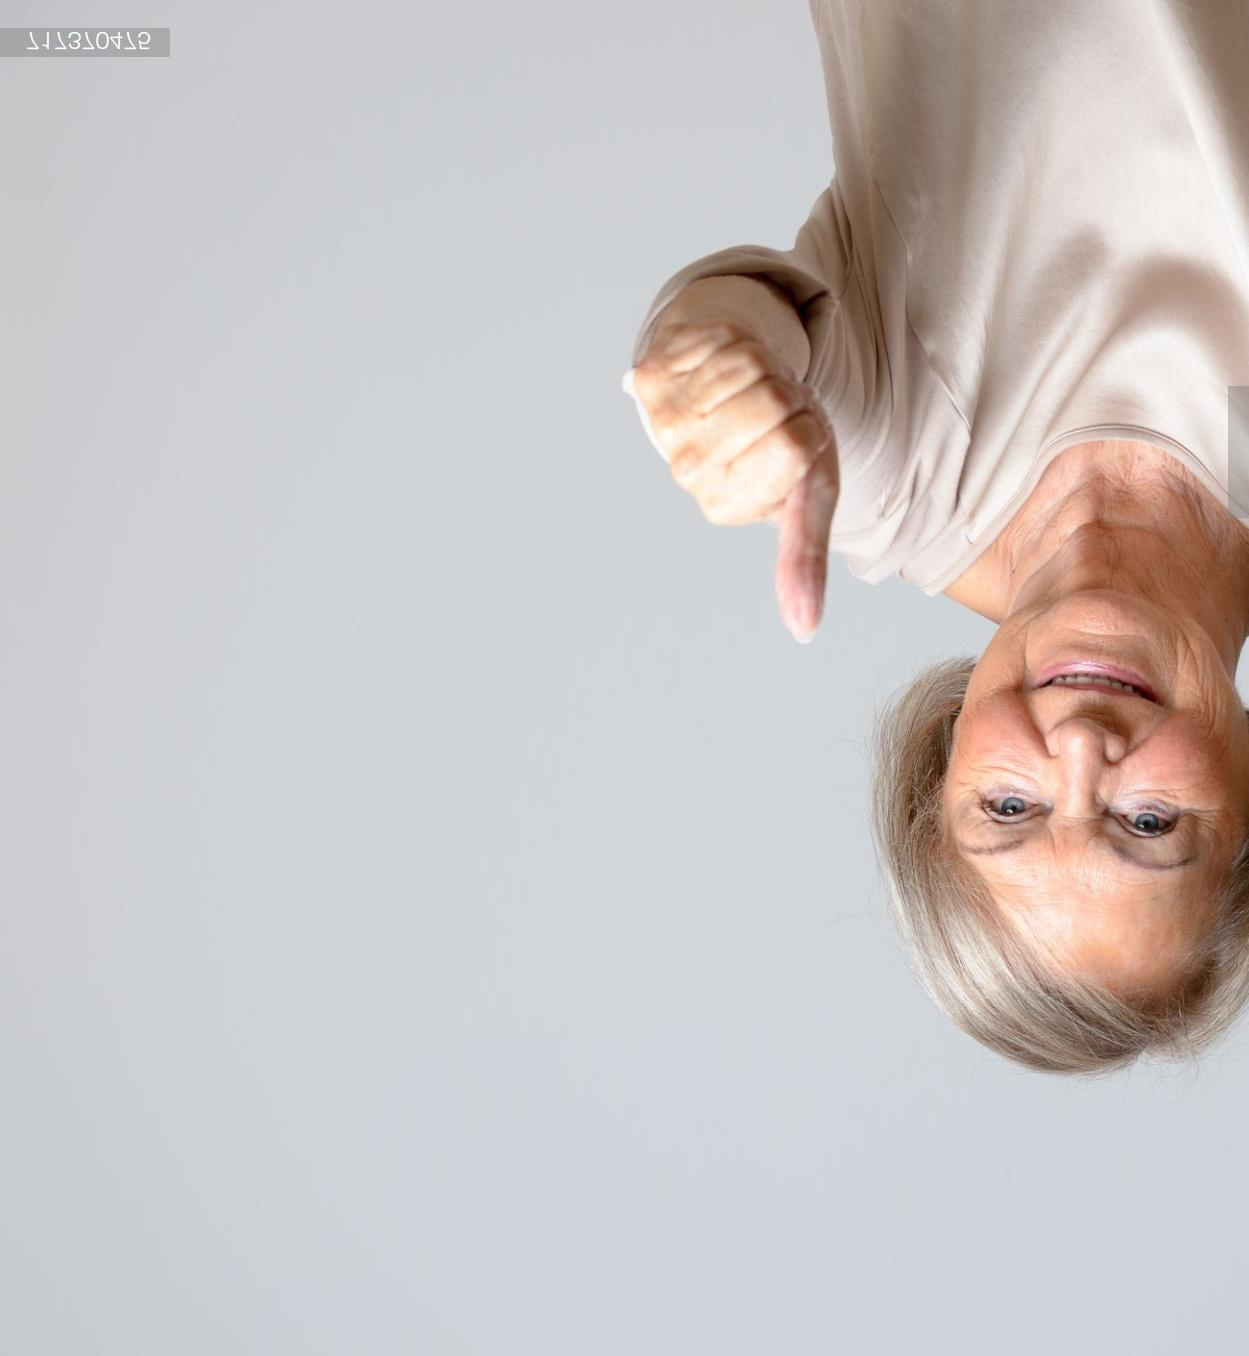thumbsdown: (633, 321, 840, 646)
